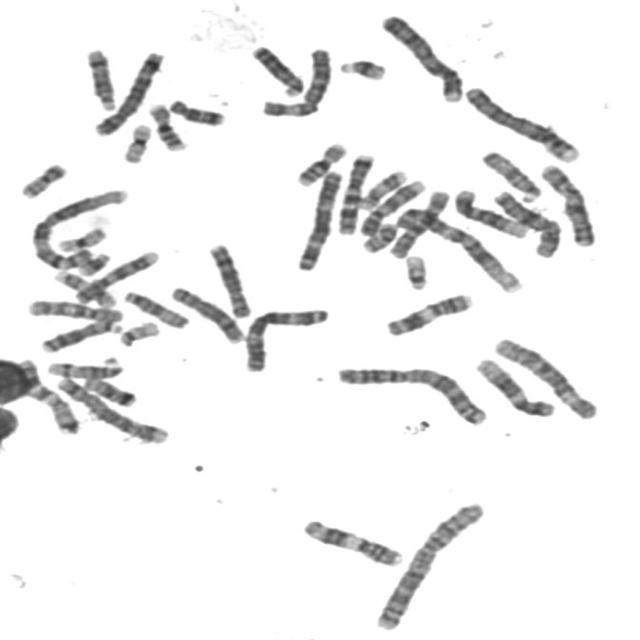A1: (387, 202, 526, 294), (26, 183, 131, 272)
A2: (369, 497, 488, 633), (329, 361, 491, 426)
A3: (238, 302, 332, 373), (290, 166, 346, 272)
B4: (459, 81, 583, 164), (375, 8, 466, 104)
B5: (49, 372, 170, 446), (88, 45, 167, 138)
C10: (385, 185, 453, 260), (21, 294, 125, 324)
C11: (296, 514, 406, 568), (379, 288, 476, 338)
C12: (470, 352, 558, 418), (448, 183, 531, 240)
C6: (489, 332, 601, 421), (256, 41, 336, 118)
C7: (12, 354, 82, 436), (332, 148, 378, 236)
C8: (164, 280, 247, 344), (202, 238, 254, 320)
C9: (68, 246, 160, 305), (354, 176, 427, 237)
D13: (245, 40, 306, 98), (34, 315, 124, 354)
D14: (78, 43, 120, 112), (42, 353, 123, 380)
D15: (475, 146, 545, 203), (118, 285, 191, 330)
E16: (290, 138, 348, 188), (142, 98, 189, 152)
E17: (48, 265, 119, 308), (354, 164, 410, 211)
E18: (162, 93, 228, 128), (78, 371, 138, 408)
F19: (50, 221, 110, 254), (117, 118, 155, 165)
F20: (15, 158, 70, 200), (356, 217, 400, 254)
G21: (334, 54, 388, 82), (74, 248, 113, 276)
G22: (113, 316, 161, 347), (399, 250, 430, 292)
X: (535, 159, 598, 249), (488, 186, 564, 259)
